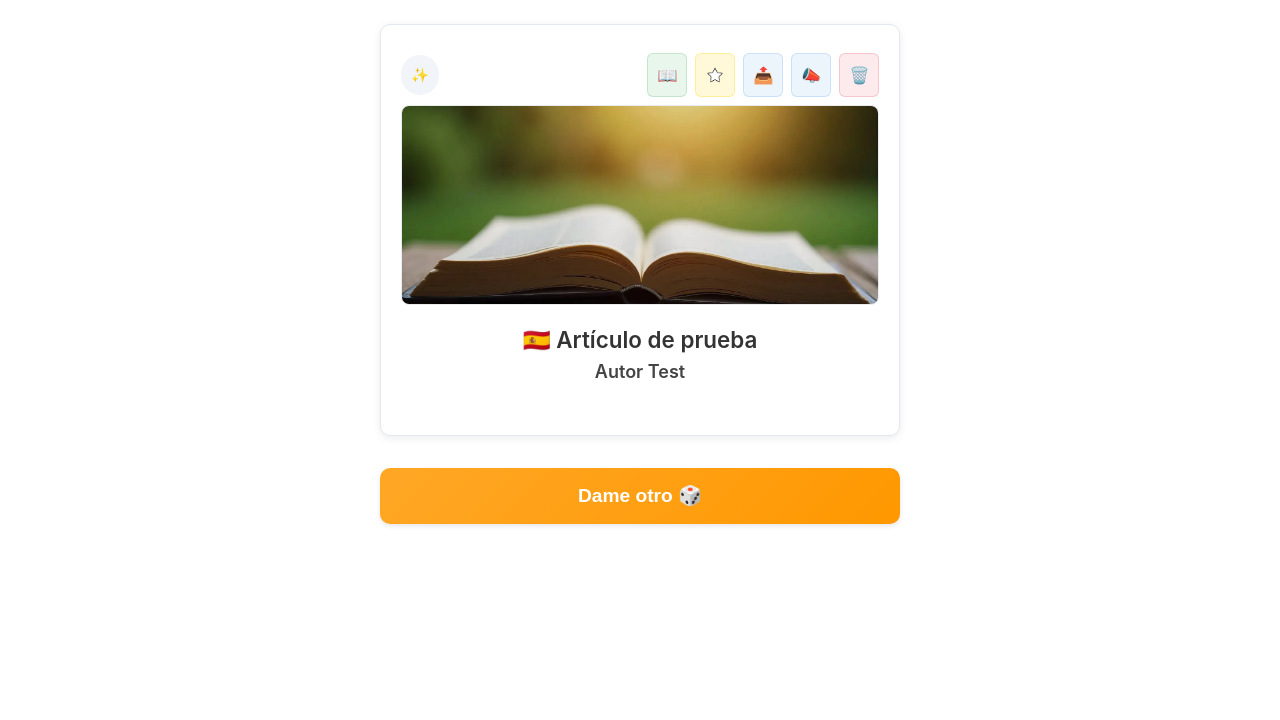
Test case: RandomArticle - Funcionalidad de favoritos › cierra el modal de favorito al hacer clic en la X
The image size is (1280, 720).
Check: the heading "🇪🇸 Artículo de prueba" is shown, box [523,326,757,353]
Click the button titled "Añadir a favoritos" at [715, 75], box [695,53,735,97]
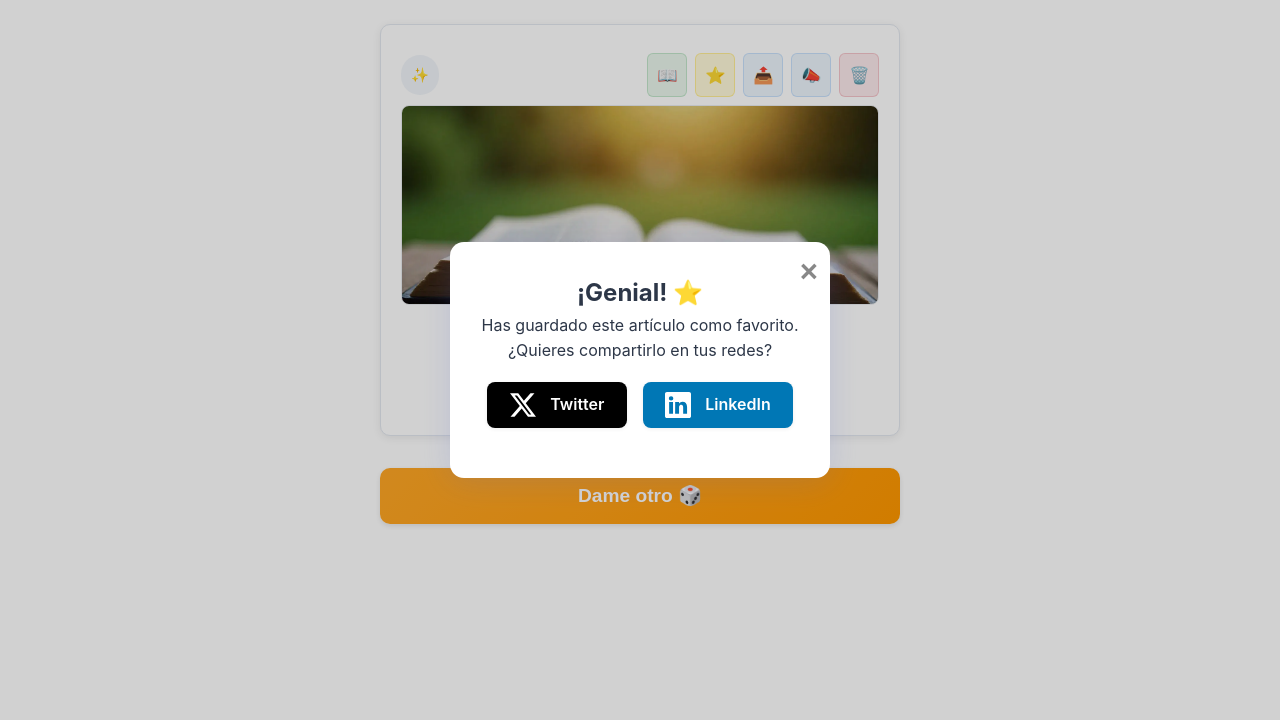
Check: the heading "¡Genial! ⭐" is shown, box [577,278,703,307]
Click the button titled "Cerrar" at [809, 272], box [800,254,818,290]
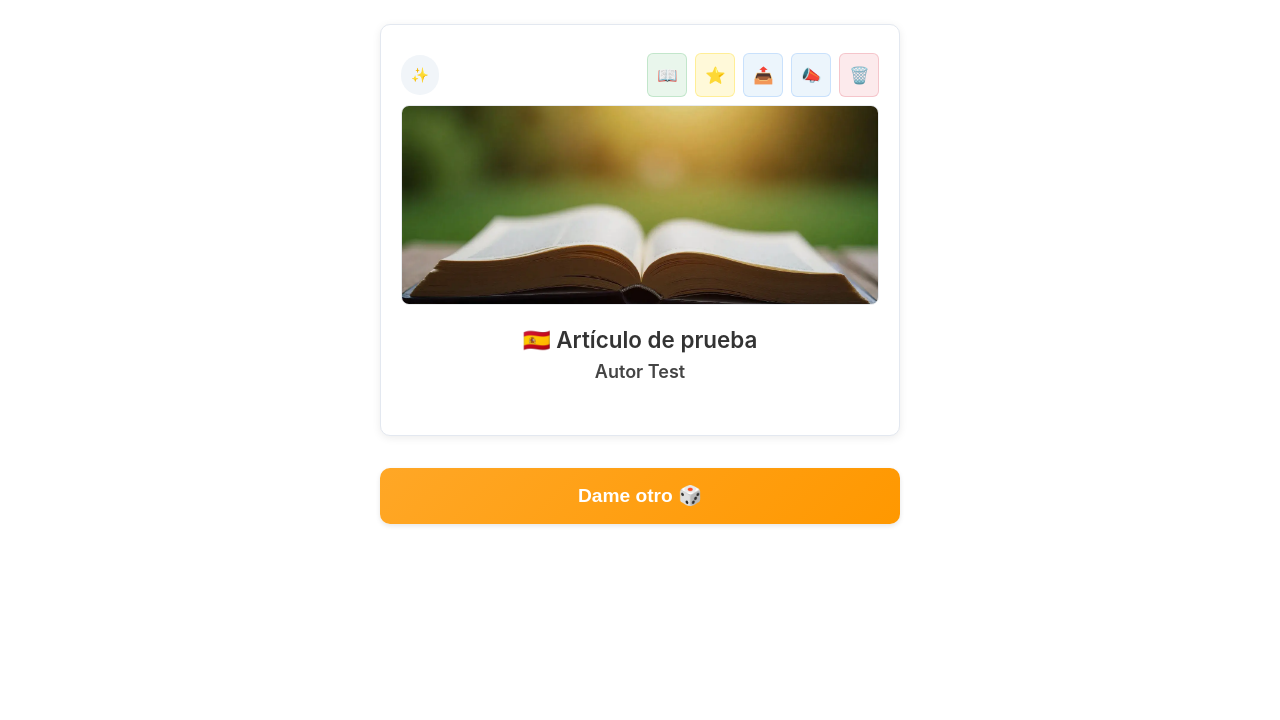
Check: the heading "¡Genial! ⭐" is gone
